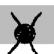not correct: (7, 9, 44, 54)
